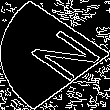N_SE: (10, 23, 100, 87)
